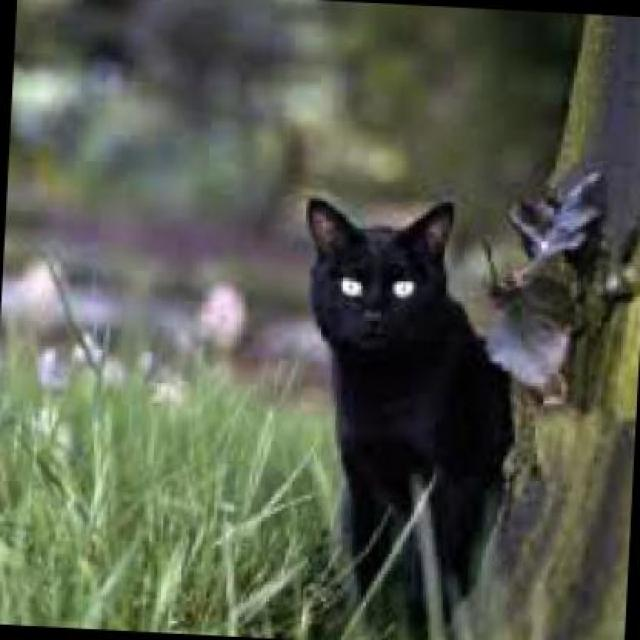animals: (277, 180, 518, 638)
